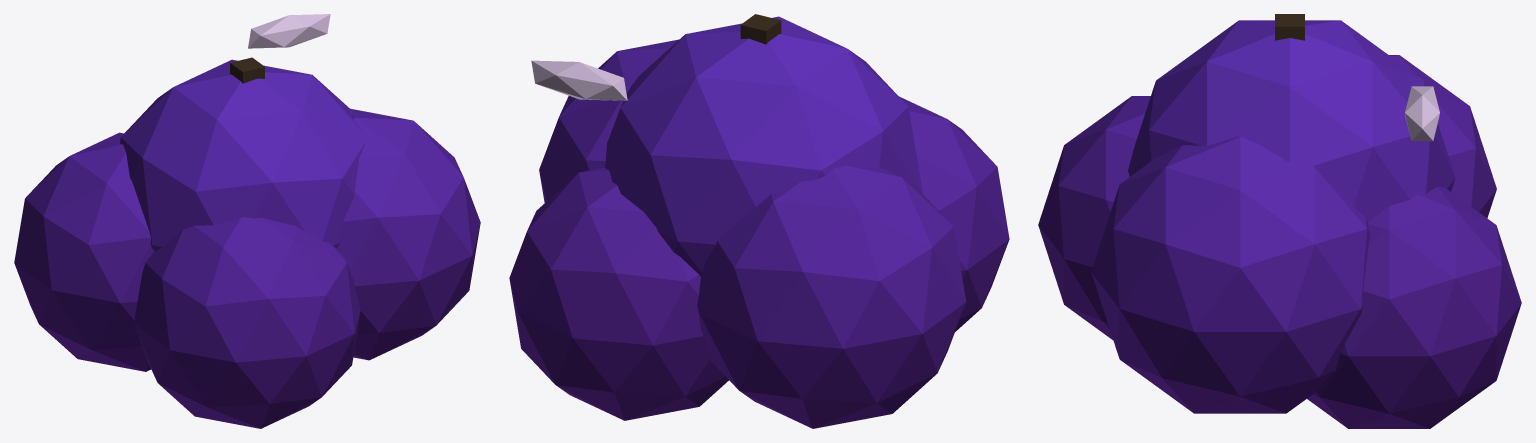
File: Astral_Berry.glb
The picture shows the model from 3 angles, left to right: view 1: azimuth 30°, elevation 25°; view 2: azimuth 150°, elevation 25°; view 3: azimuth 270°, elevation 25°; orthographic projection. The views are drawn at different scales.
Visible parts, largest first — view 1: _ITEM_AstralBerry; view 2: _ITEM_AstralBerry; view 3: _ITEM_AstralBerry.
Part boxes in pixels (bbox=[...]): _ITEM_AstralBerry: bbox=[14, 14, 480, 428]; _ITEM_AstralBerry: bbox=[509, 14, 1009, 428]; _ITEM_AstralBerry: bbox=[1038, 14, 1521, 428].
Size of the model in its own units: 0.3064 by 0.245 by 0.292.
